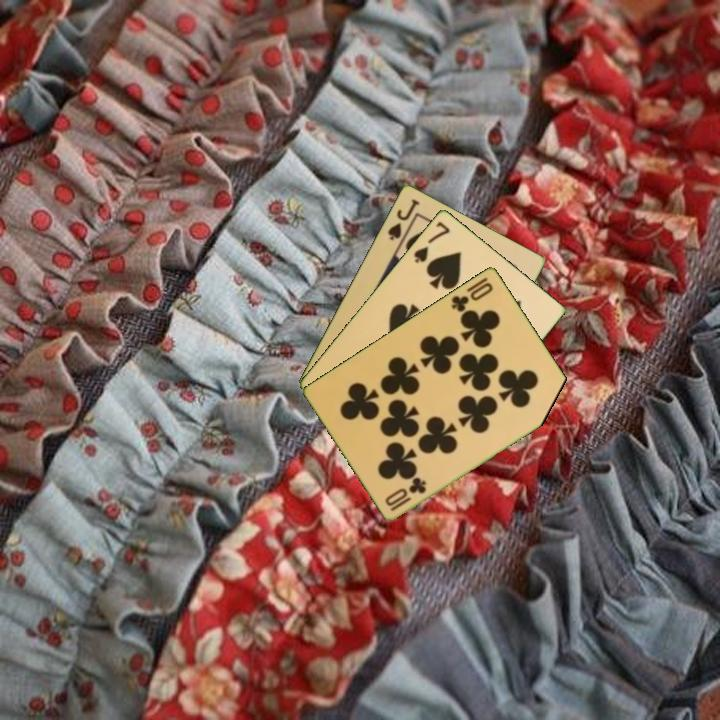10c: (448, 273, 496, 315), (381, 474, 429, 514)
7s: (410, 217, 453, 266)
Js: (384, 195, 423, 243)
